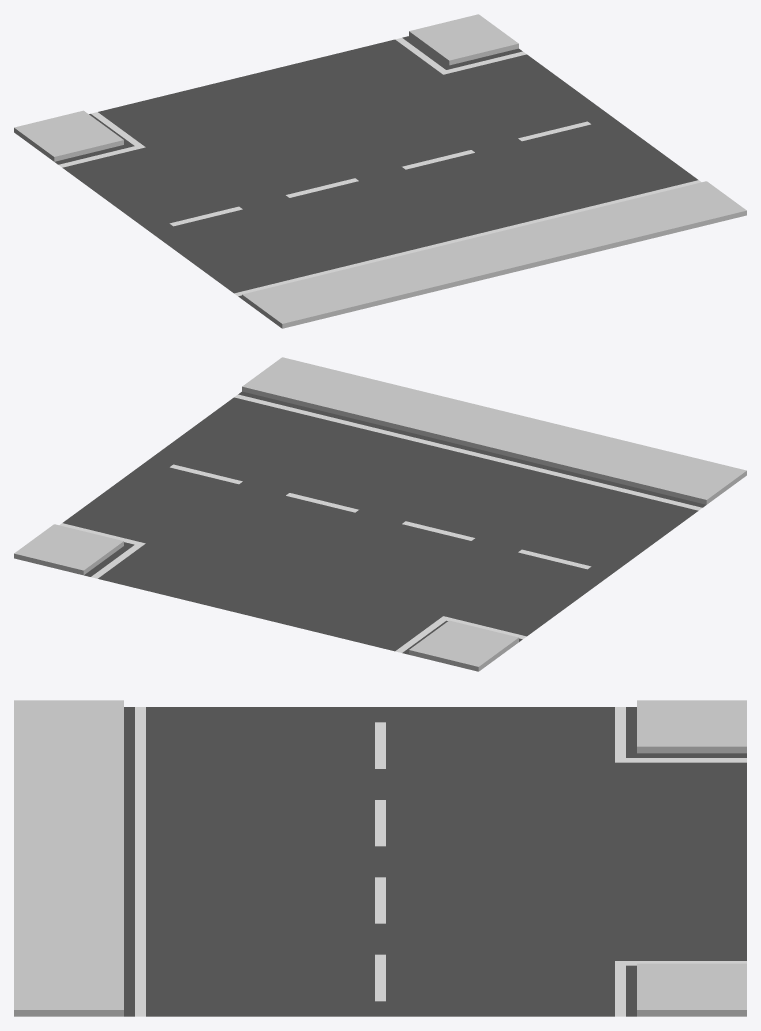
The model's file is road_straight_side_open.glb.
3 views of the same model, one above another, from view 1: azimuth 30°, elevation 25°; view 2: azimuth 150°, elevation 25°; view 3: azimuth 270°, elevation 25° (orthographic). The views are drawn at different scales.
Visible parts, largest first — view 1: SPW_Urban_Road 2way_05; view 2: SPW_Urban_Road 2way_05; view 3: SPW_Urban_Road 2way_05.
Part boxes in pixels (x1,y1,x2,y2): SPW_Urban_Road 2way_05: (14, 14, 746, 328); SPW_Urban_Road 2way_05: (14, 357, 746, 671); SPW_Urban_Road 2way_05: (14, 700, 746, 1016).
Size of the model in its own units: 20 by 0.2 by 20.
Materials: 1 (1 with a texture image).
